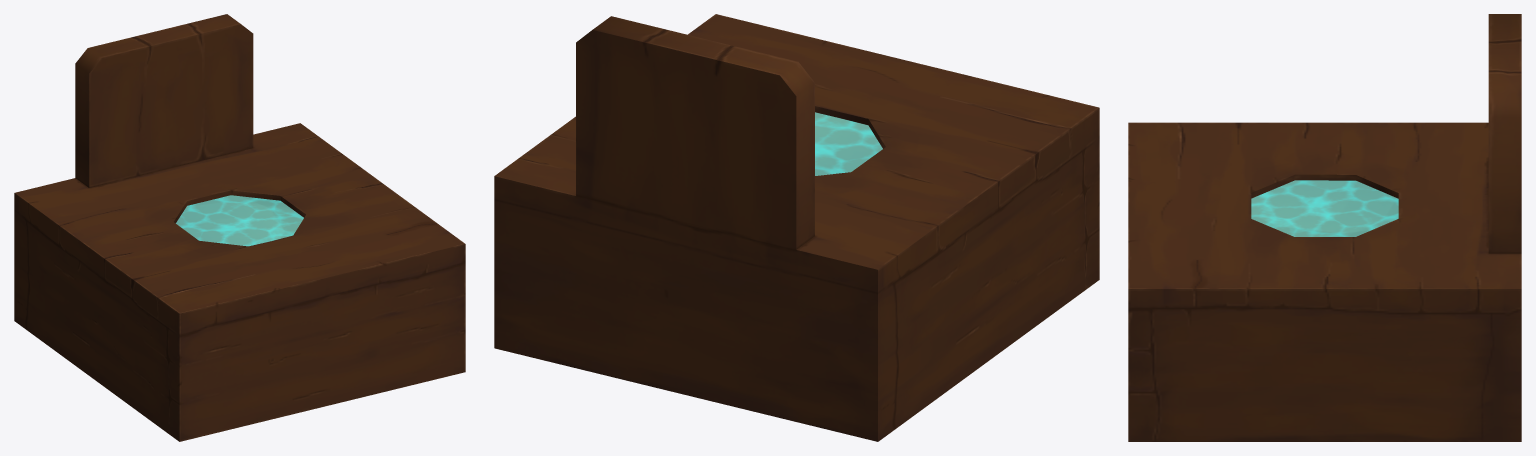
The model's file is bathroom_toilette_clean.glb.
3 views of the same model, side by side, from view 1: azimuth 30°, elevation 25°; view 2: azimuth 150°, elevation 25°; view 3: azimuth 270°, elevation 25° (orthographic). The views are drawn at different scales.
Visible parts, largest first — view 1: Toilette01, Plane; view 2: Toilette01, Plane; view 3: Toilette01, Plane.
Boxes of the visible parts, x1,y1,x2,y2 form: Toilette01: (14,14,465,441); Plane: (176,195,303,246); Toilette01: (494,14,1099,441); Plane: (815,112,882,175); Toilette01: (1128,14,1521,441); Plane: (1251,180,1398,236).
Size of the model in its own units: 0.7 by 0.597 by 0.7.
Materials: 2 (2 with a texture image).
